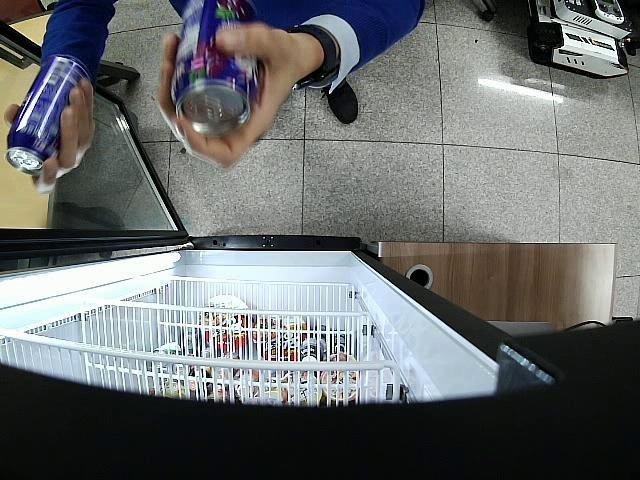14_welchsGrape: (170, 0, 260, 135), (6, 56, 91, 174)
